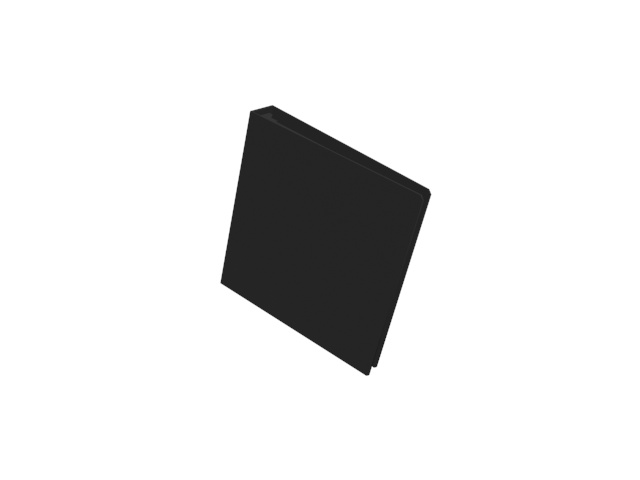ring_binder: (217, 105, 432, 378)
